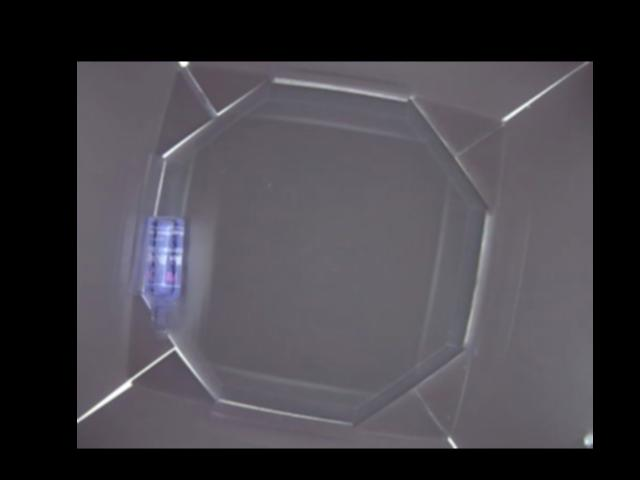Bottle: (139, 216, 189, 334)
